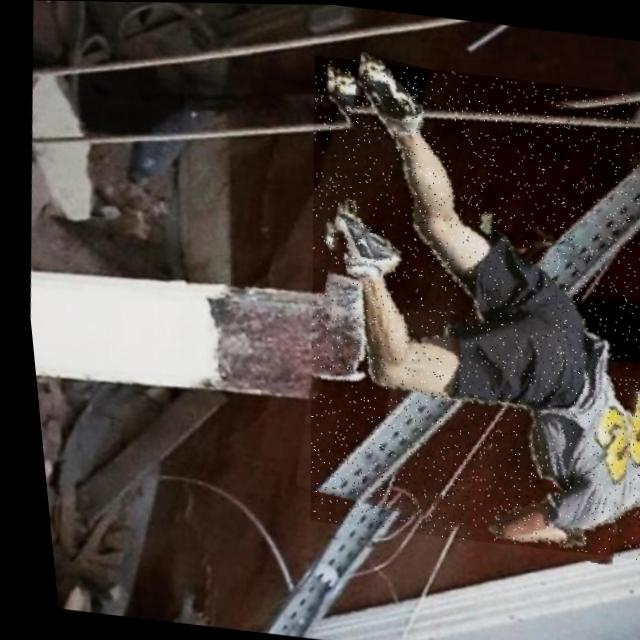Person in Rubble: (263, 53, 640, 560)
